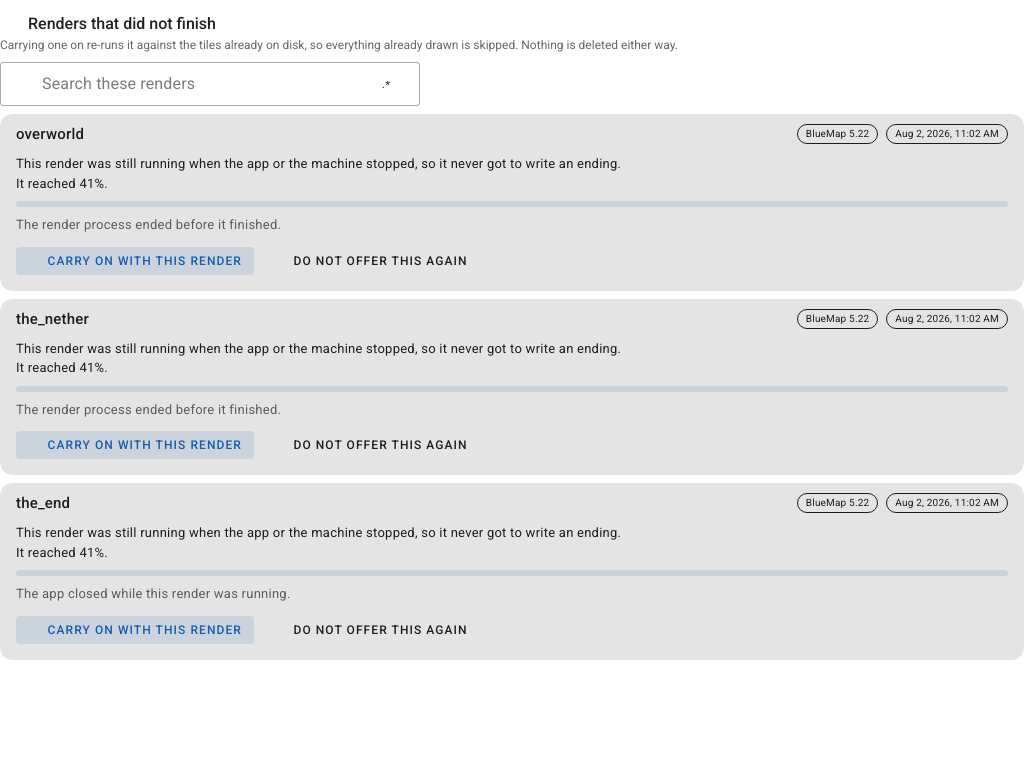
Test case: the builder, opened from this field › shows an unusable pattern as the error it is rather than running a stale one
The width and height of the screenshot is (1024, 768).
Click the button named "Open the regex builder". click: (386, 84)
box: x1=364 y1=62 x2=408 y2=106
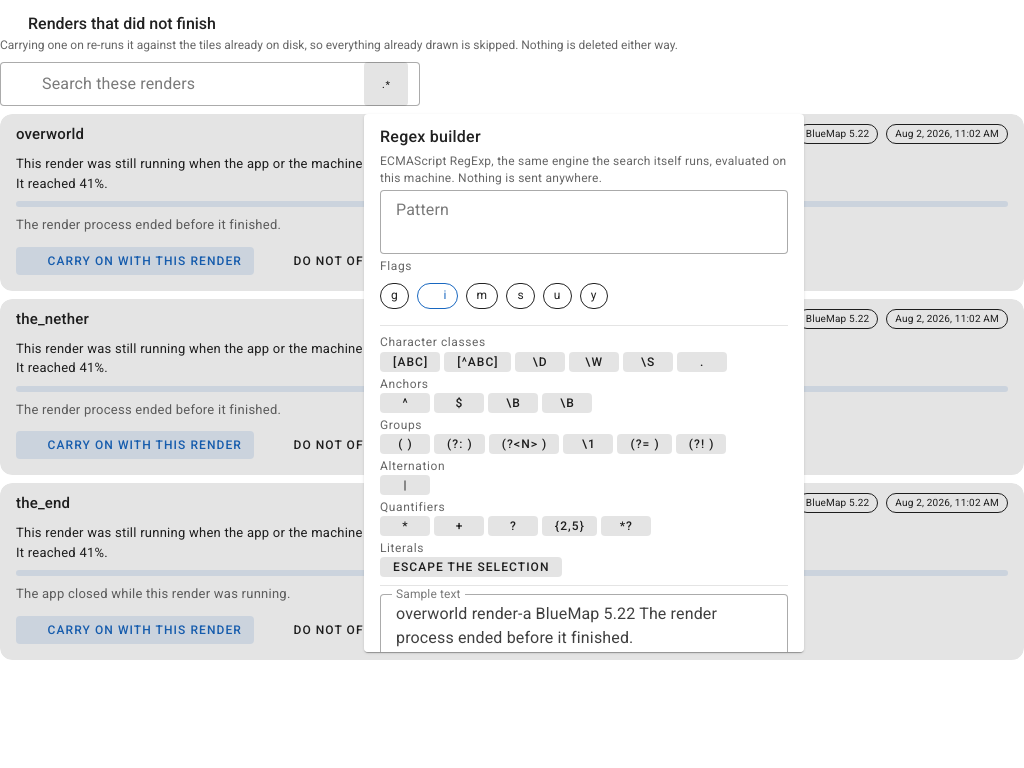
Type "overworld" into the text box labelled "Pattern". click: (584, 222)
box: x1=380 y1=190 x2=788 y2=254
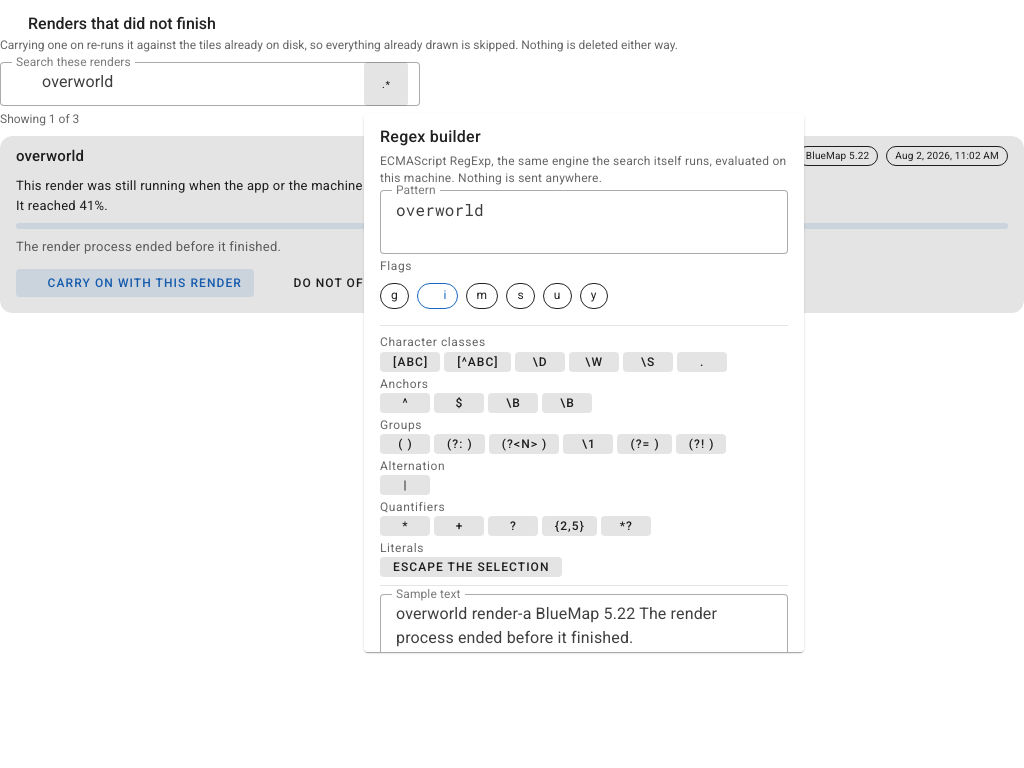
Replace the text in the text box labelled "Pattern" with "overworld(". click: (584, 222)
box: x1=380 y1=190 x2=788 y2=254
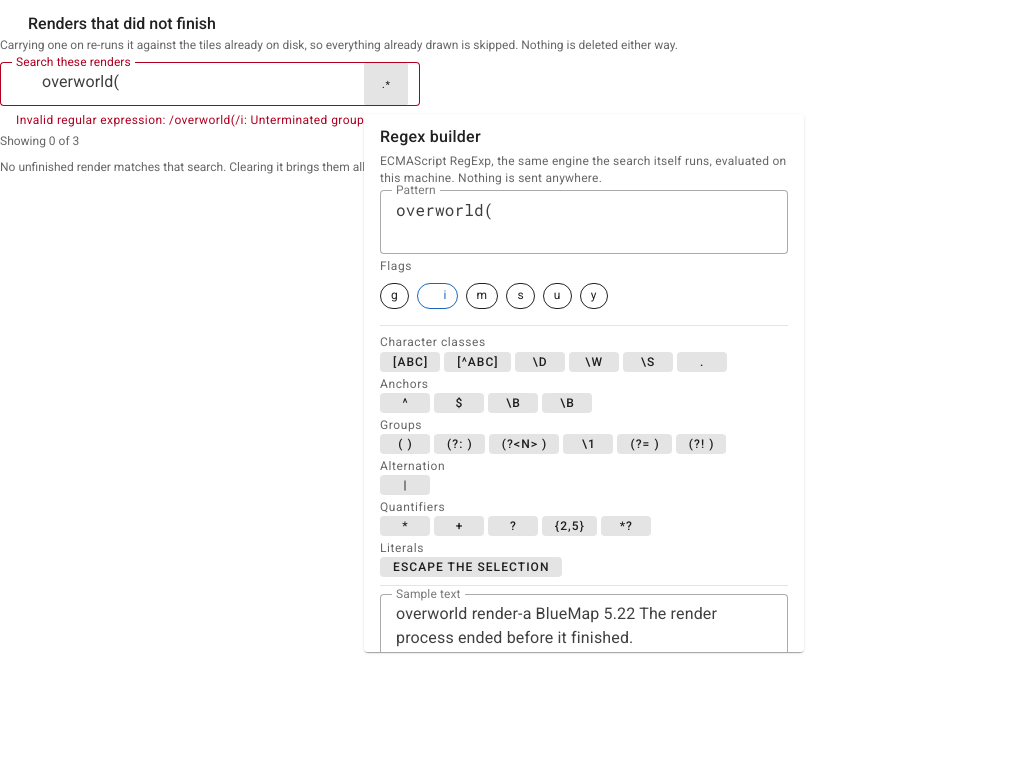
expect the element with class "mb-config-search" shows "Unterminated group": met, box x1=16 y1=113 x2=364 y2=127
